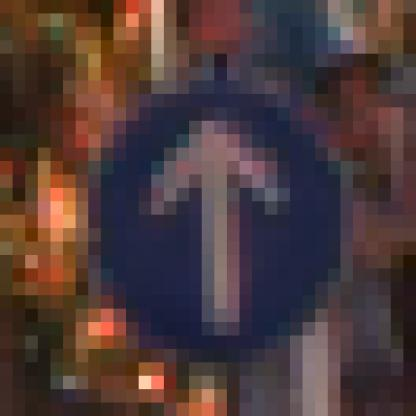AheadOnly: (77, 68, 341, 350)
